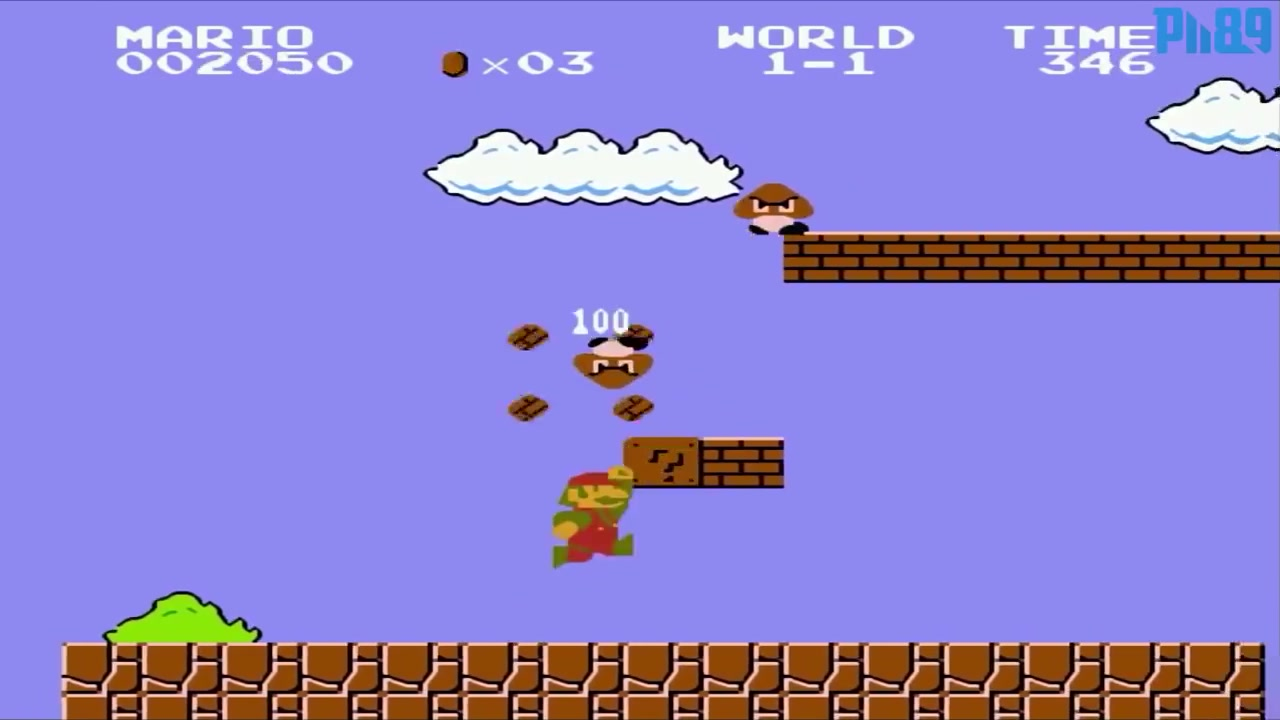mario: (540, 458, 646, 572)
